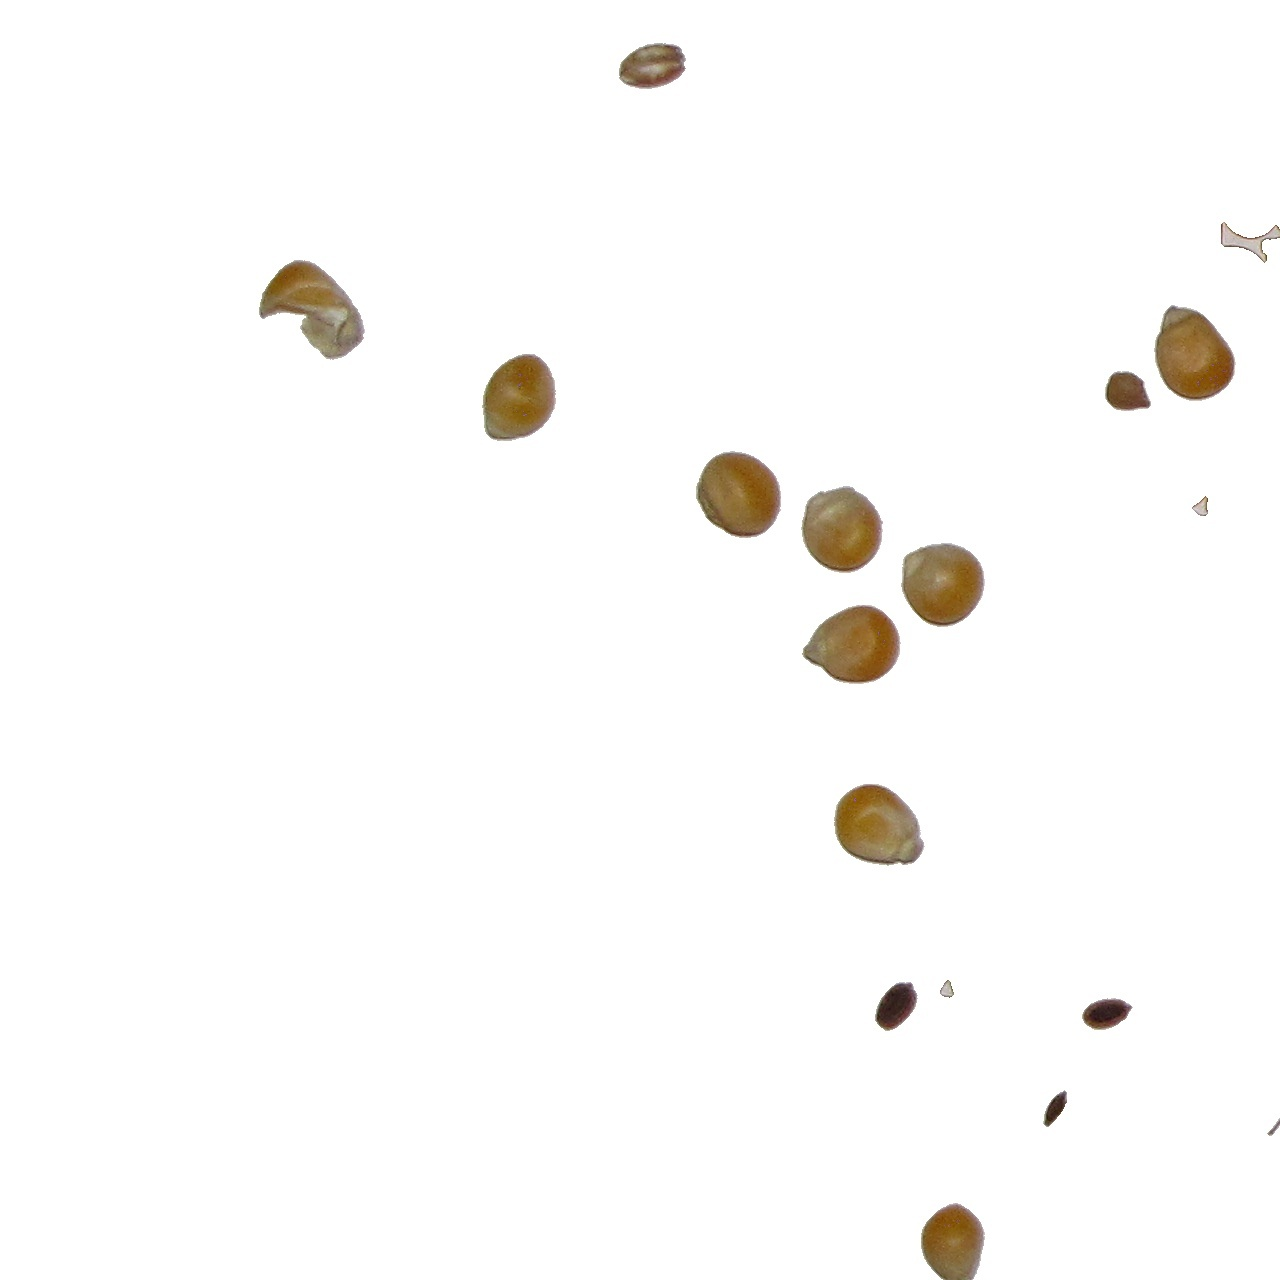buckwheat: (874, 981, 919, 1032), (1081, 998, 1133, 1032), (1046, 1091, 1073, 1141), (1266, 1107, 1280, 1137), (1191, 495, 1208, 517), (939, 979, 955, 999)
dill: (1214, 222, 1280, 264)
mais: (258, 259, 366, 361), (801, 604, 903, 685), (1153, 304, 1237, 402), (833, 783, 926, 867), (695, 450, 782, 539), (799, 485, 884, 574), (900, 542, 986, 628), (481, 353, 557, 442), (920, 1201, 986, 1280)
other: (626, 42, 687, 91), (1104, 370, 1152, 411)
